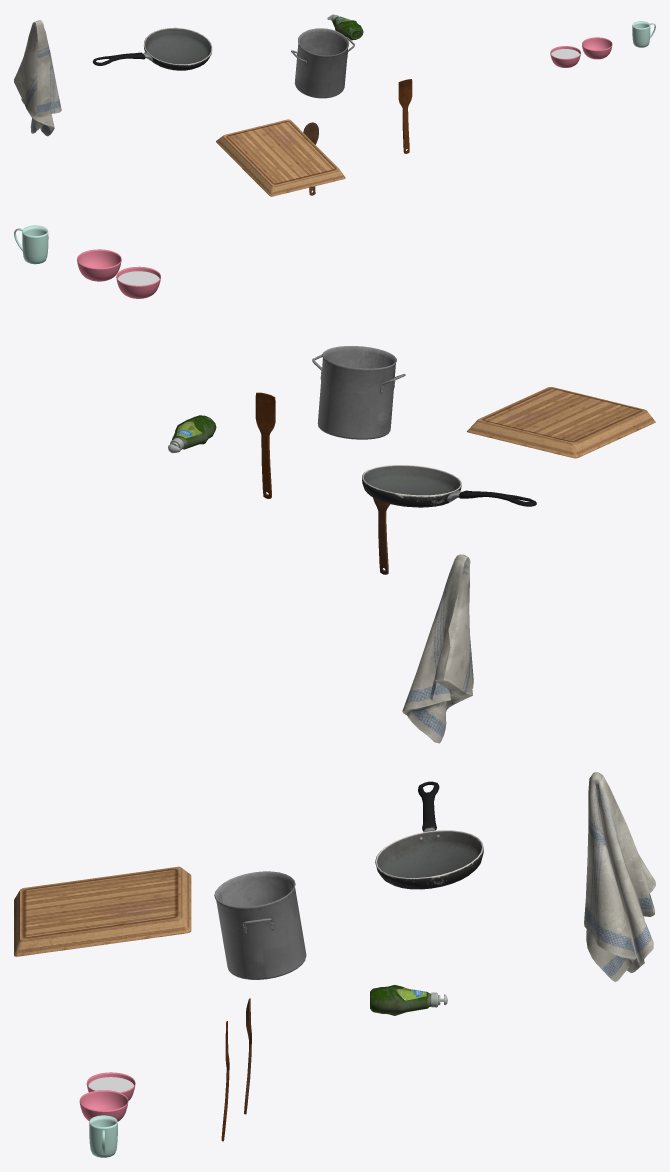
Rendered from utensilios.fbx.
The picture shows the model from 3 angles, top to bottom: view 1: azimuth 30°, elevation 25°; view 2: azimuth 150°, elevation 25°; view 3: azimuth 270°, elevation 25°; orthographic projection. The views are drawn at different scales.
Parts seen in each view (by area): view 1: Object_1, Object_20, Object_11, Object_18, Object_7, Dinner Ware GlossyWhite Bowl.001, Object_24, Dinner Ware GlossyWhite Cup.001, Dinner Ware GlossyWhite Bowl.002, Object_6; view 2: Object_1, Object_11, Object_20, Object_18, Object_7, Dinner Ware GlossyWhite Bowl.001, Object_24, Dinner Ware GlossyWhite Cup.001, Dinner Ware GlossyWhite Bowl.002; view 3: Object_1, Object_11, Object_20, Object_18, Object_24, Dinner Ware GlossyWhite Bowl.001, Dinner Ware GlossyWhite Cup.001.
Part boxes in pixels (box(x1,y1,x2,y2)): Object_1: box(216, 119, 345, 196); Object_20: box(291, 28, 354, 98); Object_11: box(14, 20, 61, 136); Object_18: box(93, 27, 212, 70); Object_7: box(398, 79, 412, 153); Dinner Ware GlossyWhite Bowl.001: box(582, 37, 612, 59); Object_24: box(327, 14, 363, 40); Dinner Ware GlossyWhite Cup.001: box(632, 21, 655, 47); Dinner Ware GlossyWhite Bowl.002: box(550, 46, 580, 67); Object_6: box(303, 122, 318, 195); Object_1: box(467, 387, 655, 458); Object_11: box(402, 554, 473, 743); Object_20: box(312, 346, 405, 439); Object_18: box(362, 465, 536, 507); Object_7: box(255, 392, 275, 498); Dinner Ware GlossyWhite Bowl.001: box(77, 249, 121, 281); Object_24: box(168, 415, 216, 453); Dinner Ware GlossyWhite Cup.001: box(14, 225, 48, 264); Dinner Ware GlossyWhite Bowl.002: box(116, 266, 160, 298); Object_1: box(14, 866, 191, 956); Object_11: box(584, 772, 655, 981); Object_20: box(214, 871, 306, 979); Object_18: box(375, 781, 483, 889); Object_24: box(370, 985, 447, 1015); Dinner Ware GlossyWhite Bowl.001: box(79, 1090, 128, 1121); Dinner Ware GlossyWhite Cup.001: box(89, 1115, 117, 1157).
Bounding box in the file's own units: 259 × 79.74 × 193.
Materials: 9 (5 with a texture image).
